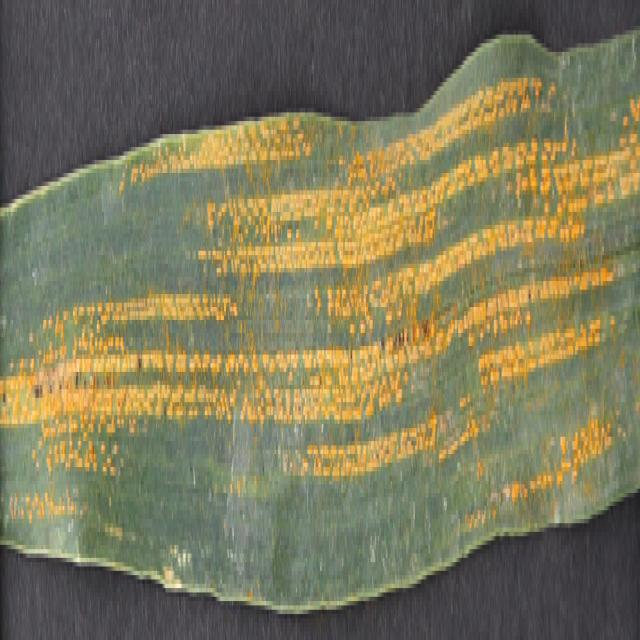leaf rust: (1, 78, 638, 579)
